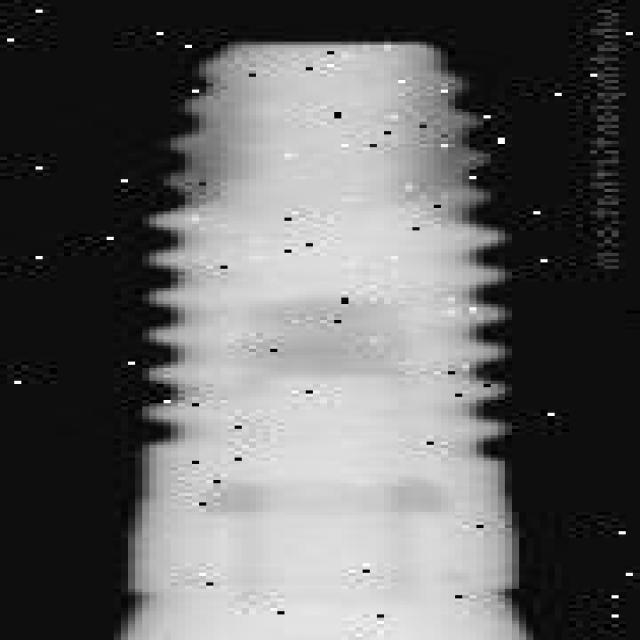Osstem Implant: (120, 37, 526, 640)
